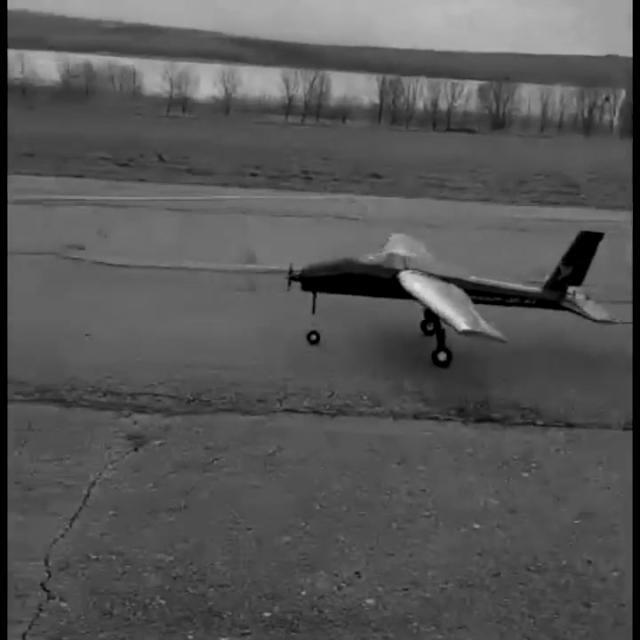iha: (271, 213, 625, 371)
